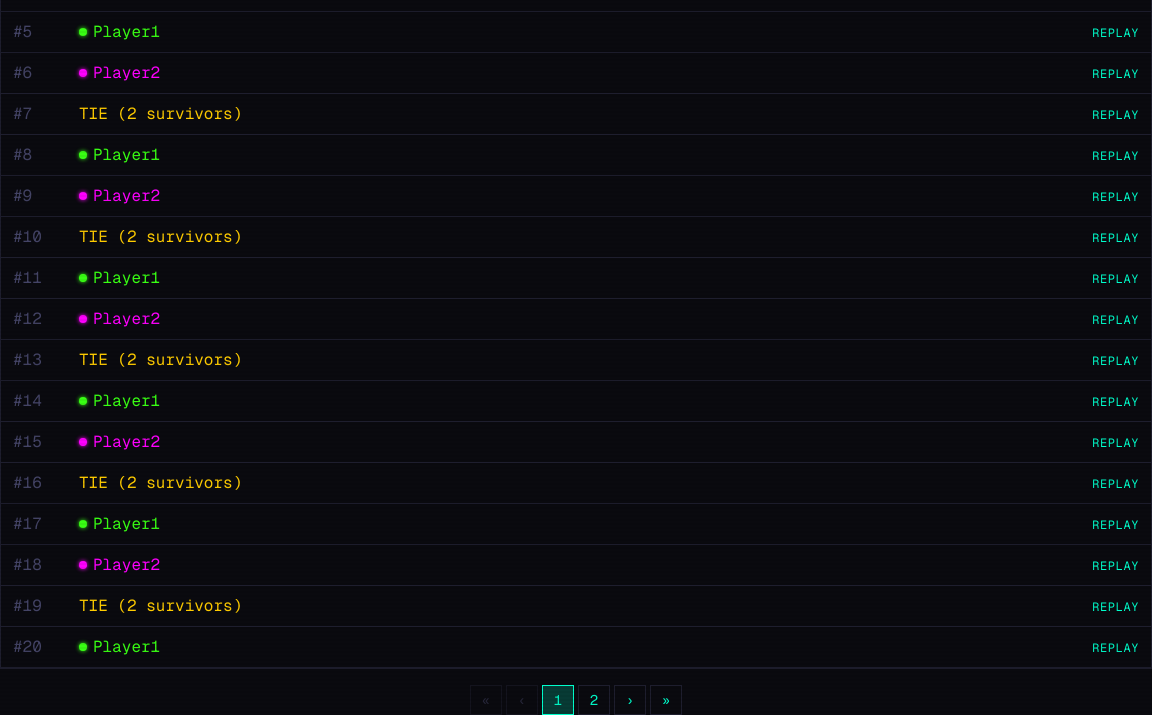
it: ArenaRoundsList › paginates to page 2 on click
(page scrolled)
// Click page 2
Click the button "2" at (594, 700), box left=578, top=685, right=610, bottom=714
(page scrolled)
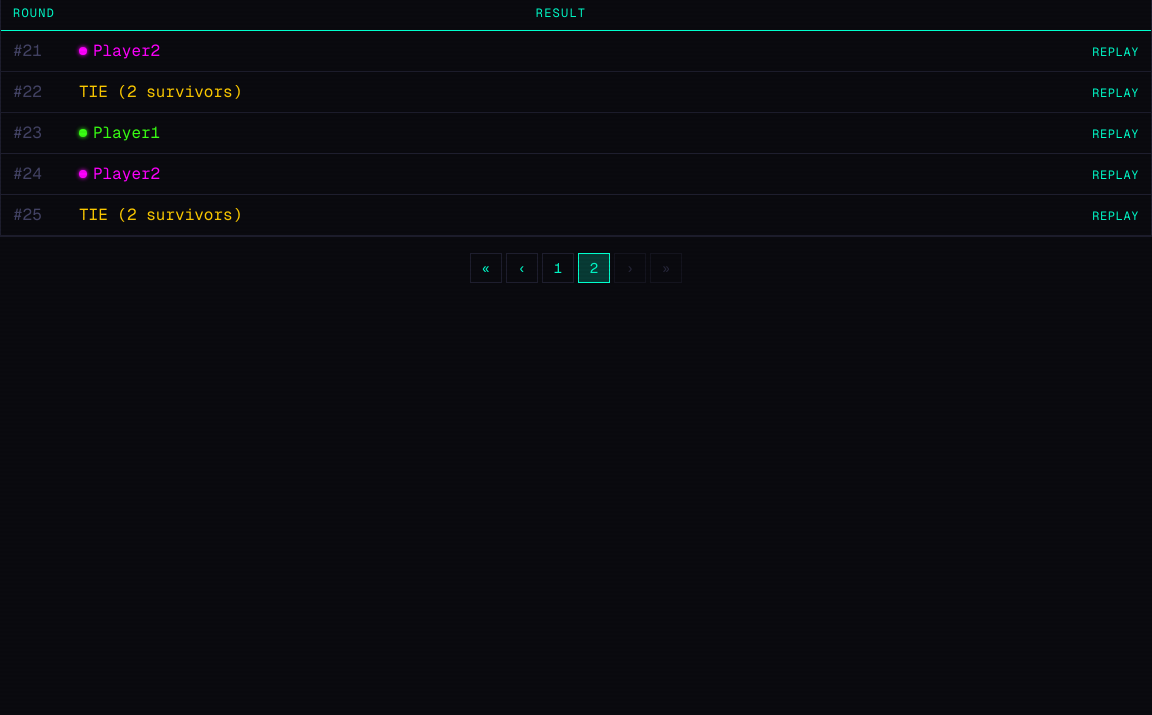
Now the number of links "REPLAY" is 5, box left=1092, top=44, right=1139, bottom=60; left=1092, top=85, right=1139, bottom=101; left=1092, top=126, right=1139, bottom=142; left=1092, top=167, right=1139, bottom=183; left=1092, top=208, right=1139, bottom=224
